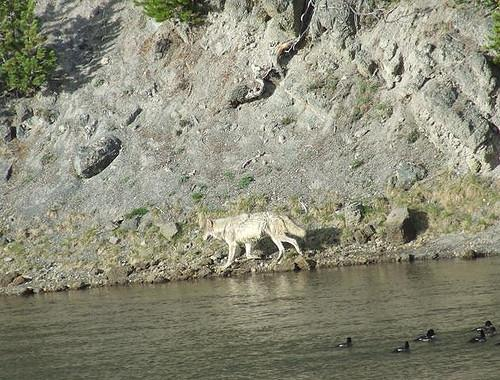Wolf: (202, 208, 309, 278)
